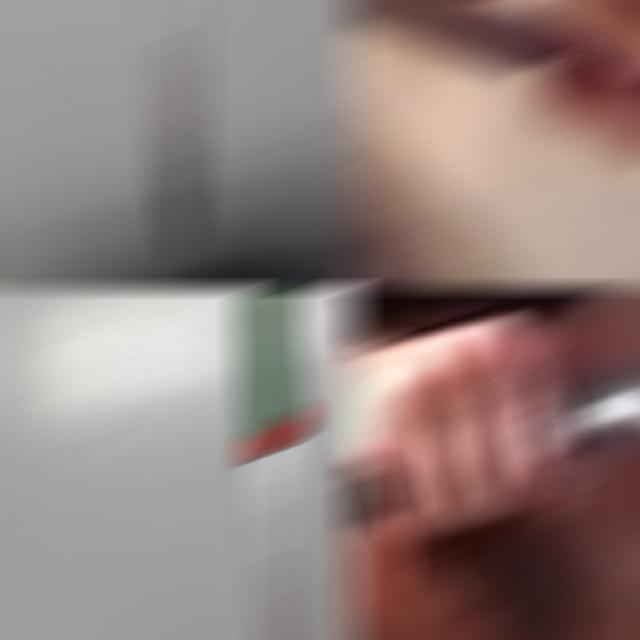Knife: (240, 290, 310, 638), (146, 2, 203, 251), (548, 320, 640, 458)
Knife_Handle: (344, 334, 640, 556), (344, 2, 640, 186)
